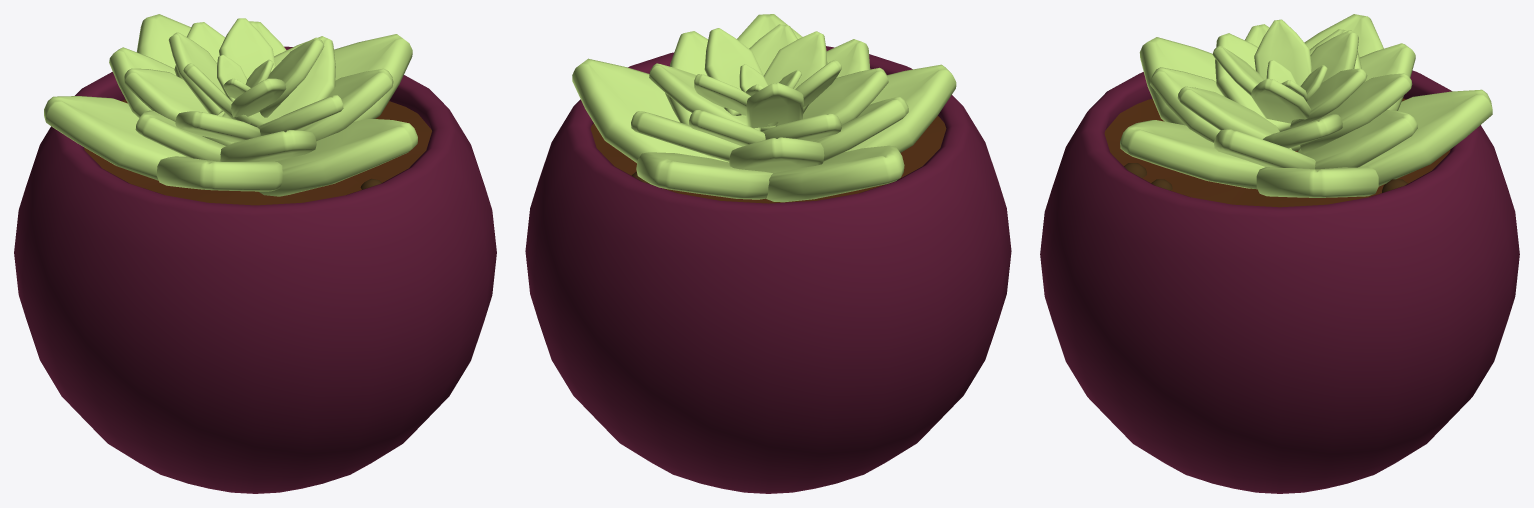
The model's file is spherePot.fbx.
The picture shows the model from 3 angles, left to right: view 1: azimuth 30°, elevation 25°; view 2: azimuth 150°, elevation 25°; view 3: azimuth 270°, elevation 25°; orthographic projection.
Visible parts, largest first — view 1: Sphere Pot; view 2: Sphere Pot; view 3: Sphere Pot.
Boxes of the visible parts, bbox=[...] form: Sphere Pot: bbox=[14, 14, 496, 493]; Sphere Pot: bbox=[525, 14, 1011, 493]; Sphere Pot: bbox=[1040, 14, 1519, 493].
Size of the model in its own units: 20.52 by 20.52 by 19.09.
